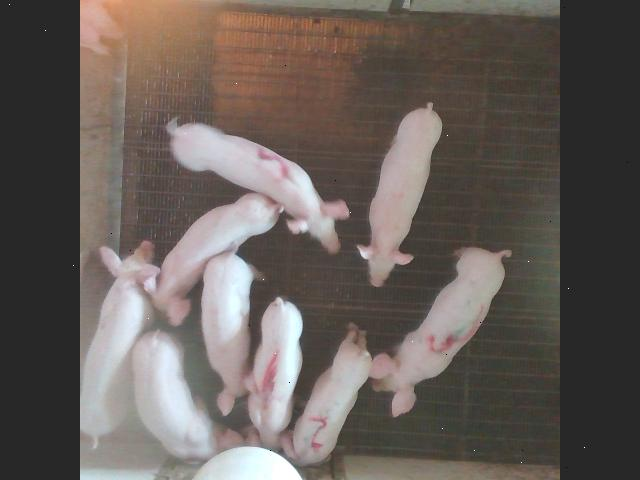pig-1: (244, 296, 302, 448)
pig-2: (171, 124, 349, 252)
pig-3: (369, 246, 511, 416)
pig-5: (281, 323, 372, 465)
